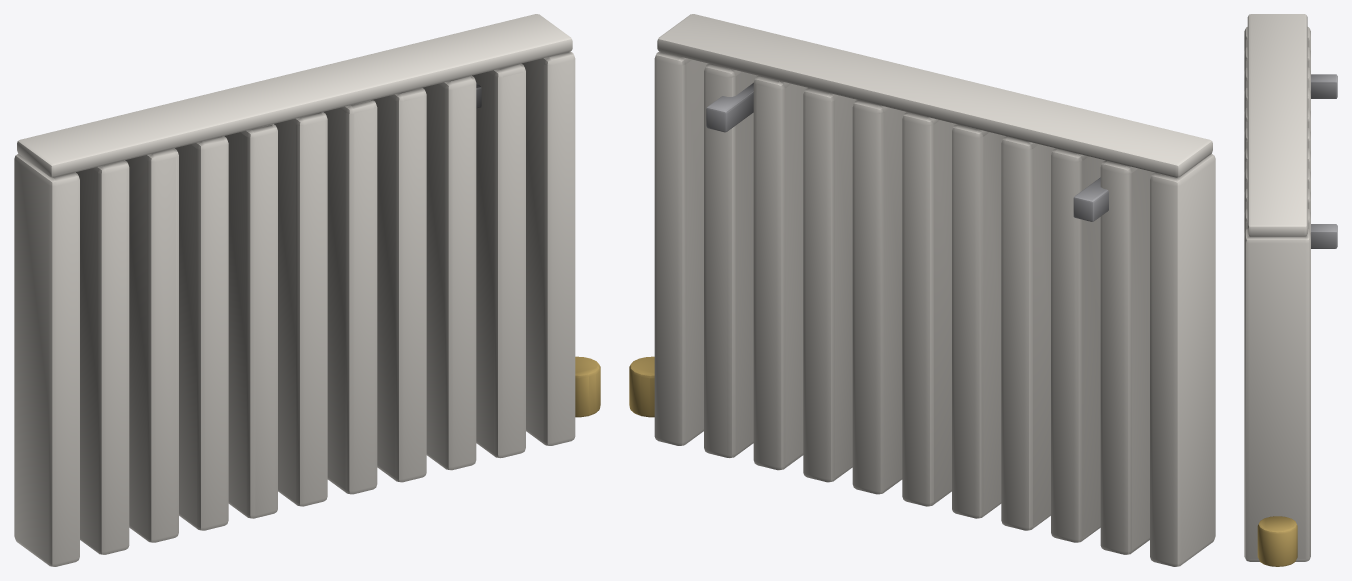
The model's file is radiator_panel.glb.
The picture shows the model from 3 angles, left to right: view 1: azimuth 30°, elevation 25°; view 2: azimuth 150°, elevation 25°; view 3: azimuth 270°, elevation 25°; orthographic projection. The views are drawn at different scales.
Parts seen in each view (by area): view 1: radiator_panel; view 2: radiator_panel; view 3: radiator_panel.
Part boxes in pixels (x1,y1,x2,y2): radiator_panel: [14, 14, 600, 566]; radiator_panel: [629, 14, 1215, 566]; radiator_panel: [1244, 14, 1337, 566].
Bounding box in the file's own units: 0.8225 × 0.56 × 0.14.
